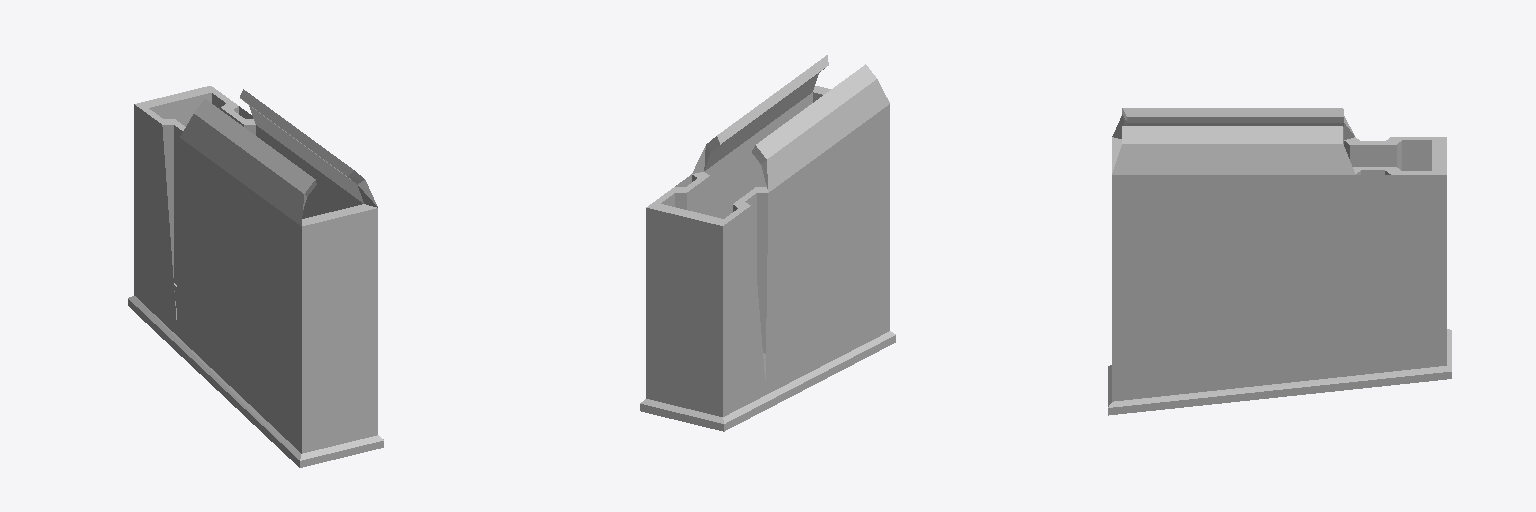
File: Mag2.obj
3 renders of one model, left to right at view 1: azimuth 30°, elevation 25°; view 2: azimuth 150°, elevation 25°; view 3: azimuth 270°, elevation 25°, orthographic.
Parts seen in each view (by area): view 1: Cube.030; view 2: Cube.030; view 3: Cube.030.
Part boxes in pixels (x1,y1,x2,y2): Cube.030: (128, 86, 383, 467); Cube.030: (640, 55, 895, 431); Cube.030: (1108, 108, 1451, 415).
Size of the model in its own units: 0.0946 by 0.2974 by 0.3346.